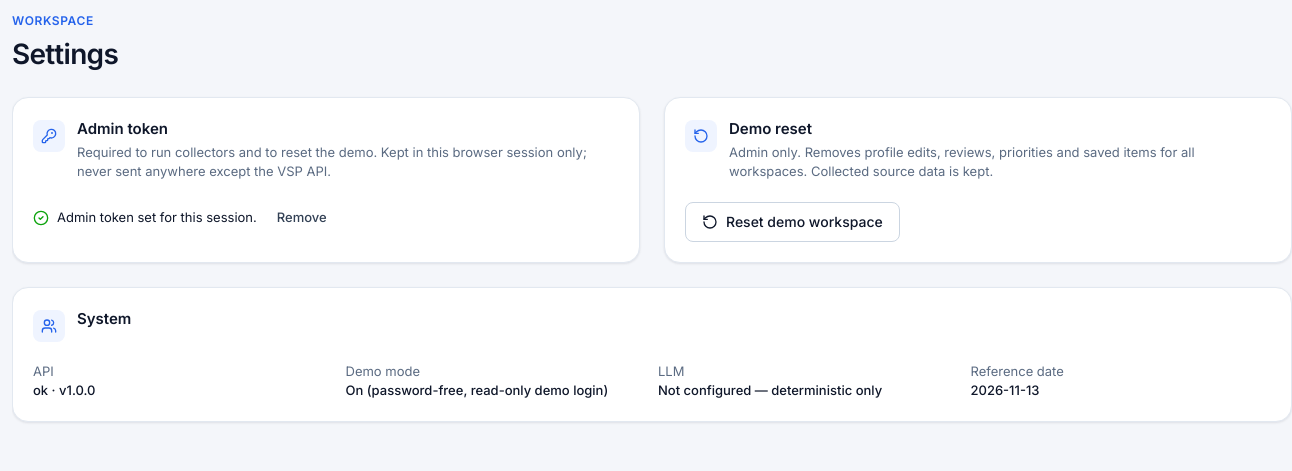
Test: Settings: demo reset is offered only to a verified admin › a refused reset shows a safe error and keeps the company session
Click the button "Reset demo workspace".
click(792, 222)  # box [685,202,900,242]
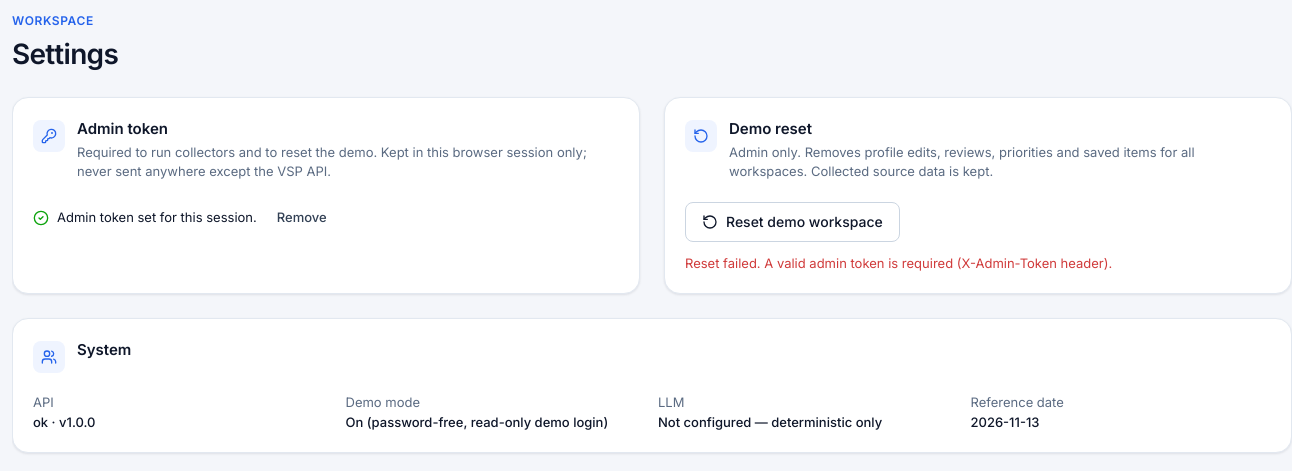
Expected: the text "Reset failed. A valid admin token is required (X-Admin-Token header)." is shown, [685,255,1112,271]
